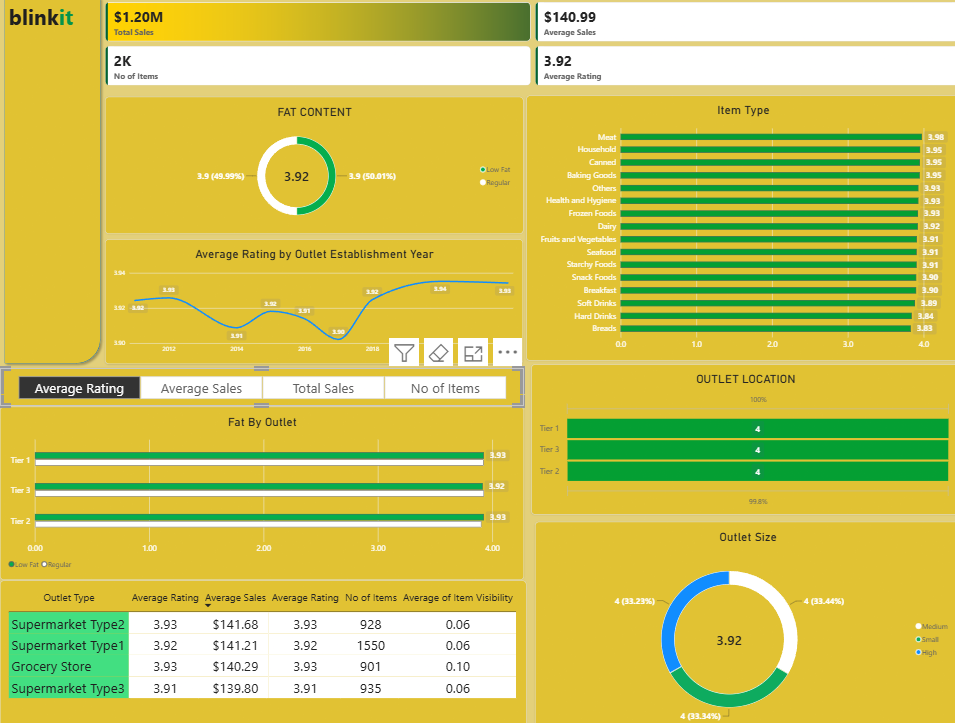

Layout of this report page (visuals, bound fields, positions):
{"tool":"powerbi","page":{"name":"Page 1","canvas":[1920,1500],"ordinal":0},"visuals":[{"type":"shape","box":[0,0,210,750],"z":0},{"type":"textbox","box":[16.3,16.3,150.2,398.1],"z":1000},{"type":"cardVisual","fields":{"Data":["BlinkIT Grocery Data.Total Sales","BlinkIT Grocery Data.Average Sales","BlinkIT Grocery Data.No of Items","BlinkIT Grocery Data.Average Rating","BlinkIT Grocery Data.Average Sales"]},"box":[209.9,16.3,1713.7,168.3],"z":2000},{"type":"donutChart","title":"FAT CONTENT","fields":{"Category":["BlinkIT Grocery Data.Item Fat Content"],"Y":["BlinkIT Grocery Data.Average Sales"]},"box":[209.6,208.1,837,274.6],"z":3000},{"type":"clusteredBarChart","title":"Item Type","fields":{"Category":["BlinkIT Grocery Data.Item Type"],"Y":["BlinkIT Grocery Data.Average Sales"]},"box":[1052.5,205,867.5,530],"z":4000},{"type":"clusteredBarChart","title":"Fat By Outlet","fields":{"Category":["BlinkIT Grocery Data.Outlet Location Type"],"Series":["BlinkIT Grocery Data.Item Fat Content"],"Y":["BlinkIT Grocery Data.Average Sales"]},"box":[0,828.3,1048.3,346.7],"z":5000},{"type":"lineChart","fields":{"Category":["BlinkIT Grocery Data.Outlet Establishment Year"],"Y":["BlinkIT Grocery Data.Average Sales"]},"box":[209.9,492.2,836.1,249.7],"z":6000},{"type":"donutChart","title":"Outlet Size","fields":{"Category":["BlinkIT Grocery Data.Outlet Size"],"Y":["BlinkIT Grocery Data.Average Sales"]},"box":[1070,1056.7,851.7,428.3],"z":7000},{"type":"funnel","title":"OUTLET LOCATION","fields":{"Category":["BlinkIT Grocery Data.Outlet Location Type"],"Y":["BlinkIT Grocery Data.Average Sales"]},"box":[1063.3,743.3,856.7,300.7],"z":8000},{"type":"tableEx","fields":{"Values":["BlinkIT Grocery Data.Outlet Type","BlinkIT Grocery Data.Average Sales","BlinkIT Grocery Data.Average Sales","BlinkIT Grocery Data.Average Rating","BlinkIT Grocery Data.No of Items","Avg(BlinkIT Grocery Data.Item Visibility)"]},"box":[0,1175,1052.5,325],"z":9000},{"type":"slicer","fields":{"Values":["Parameter 2.Parameter"]},"box":[0,750,1047.5,77.5],"z":9005}]}

Visuals, with their boxes on the page's 1920x1500 design canvas (x1, y1, x2, y2). These are canvas units, not pixel positions in the 955x723 screenshot, which may show the page scaled, cropped or inside an application window:
shape: bbox(0, 0, 210, 750)
textbox: bbox(16, 16, 166, 414)
cardVisual - BlinkIT Grocery Data.Total Sales x BlinkIT Grocery Data.Average Sales: bbox(210, 16, 1924, 185)
"FAT CONTENT" donutChart: bbox(210, 208, 1047, 483)
"Item Type" clusteredBarChart: bbox(1052, 205, 1920, 735)
"Fat By Outlet" clusteredBarChart: bbox(0, 828, 1048, 1175)
lineChart - BlinkIT Grocery Data.Outlet Establishment Year x BlinkIT Grocery Data.Average Sales: bbox(210, 492, 1046, 742)
"Outlet Size" donutChart: bbox(1070, 1057, 1922, 1485)
"OUTLET LOCATION" funnel: bbox(1063, 743, 1920, 1044)
tableEx - BlinkIT Grocery Data.Outlet Type x BlinkIT Grocery Data.Average Sales: bbox(0, 1175, 1052, 1500)
slicer - Parameter 2.Parameter: bbox(0, 750, 1048, 828)
